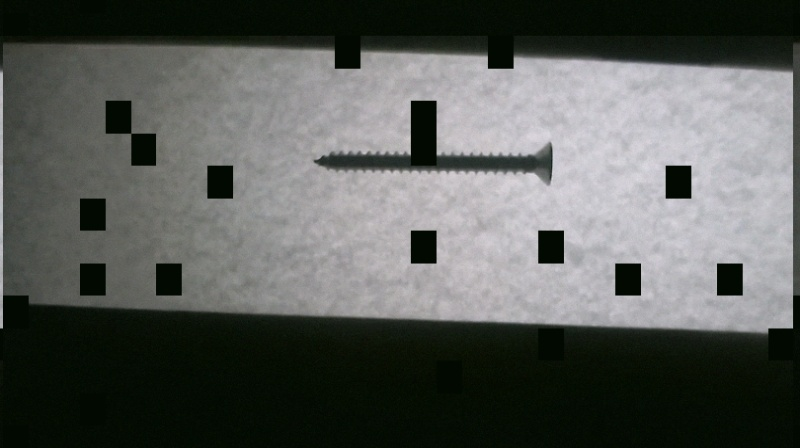S002: (310, 137, 556, 188)
